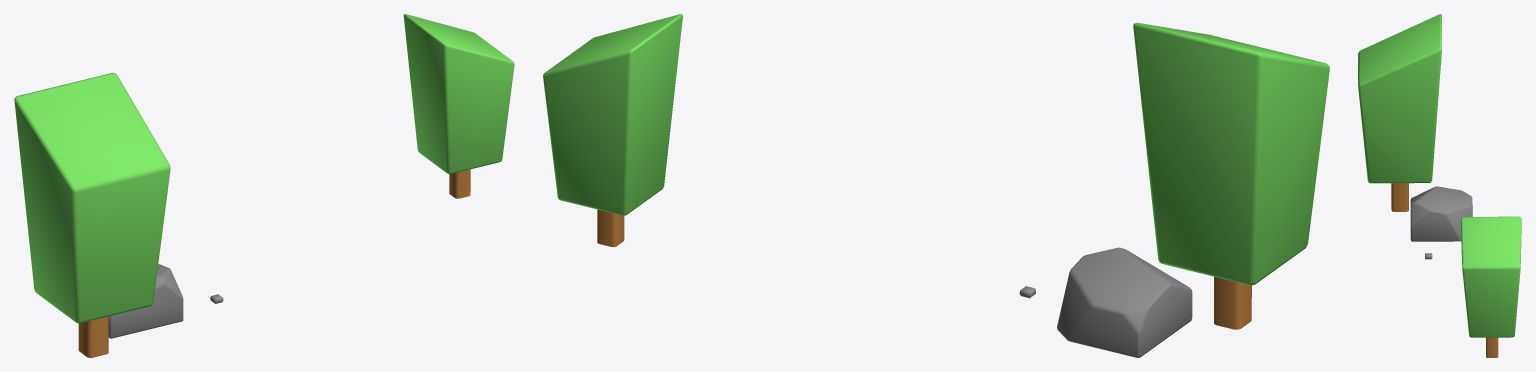
File: trees.glb
The picture shows the model from 3 angles, left to right: view 1: azimuth 30°, elevation 25°; view 2: azimuth 150°, elevation 25°; view 3: azimuth 270°, elevation 25°; orthographic projection. The views are drawn at different scales.
Visible parts, largest first — view 1: shadeGreen.004, shadeGreen.001, shadeWhite_015.018, shadeBrown.001; view 2: shadeGreen.004, shadeGreen.001, shadeWhite_015.018, shadeBrown.001; view 3: shadeGreen.004, shadeGreen.001, shadeWhite_015.018, shadeBrown.001.
Boxes of the visible parts, box(x1,y1,x2,y2) form: shadeGreen.004: box(14, 72, 170, 357); shadeGreen.001: box(403, 14, 514, 174); shadeWhite_015.018: box(108, 264, 223, 338); shadeBrown.001: box(449, 169, 470, 198); shadeGreen.004: box(1133, 22, 1329, 329); shadeGreen.001: box(543, 14, 682, 215); shadeWhite_015.018: box(1019, 247, 1192, 357); shadeBrown.001: box(597, 209, 624, 247); shadeGreen.004: box(1358, 14, 1441, 211); shadeGreen.001: box(1460, 216, 1521, 337); shadeWhite_015.018: box(1410, 186, 1472, 259); shadeBrown.001: box(1486, 337, 1498, 357).
Bounding box in the file's own units: 9.89 × 4.5 × 3.77.
